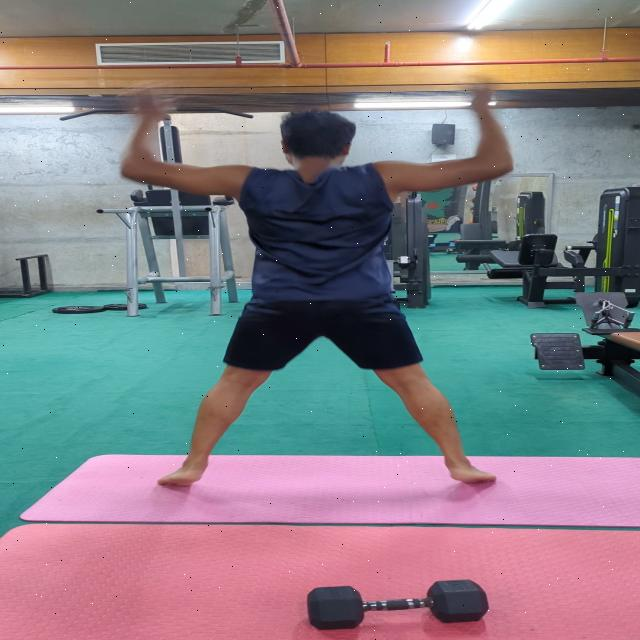Normal_JumpingJacks: (93, 74, 579, 488)
